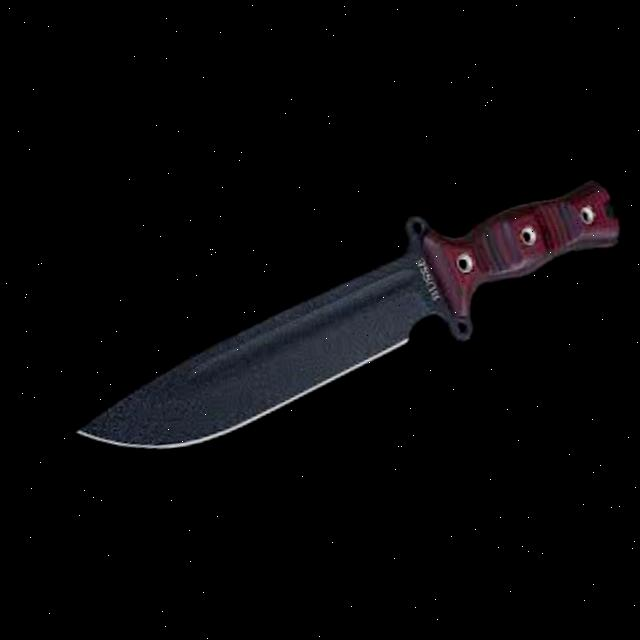Knife: (44, 176, 640, 457)
